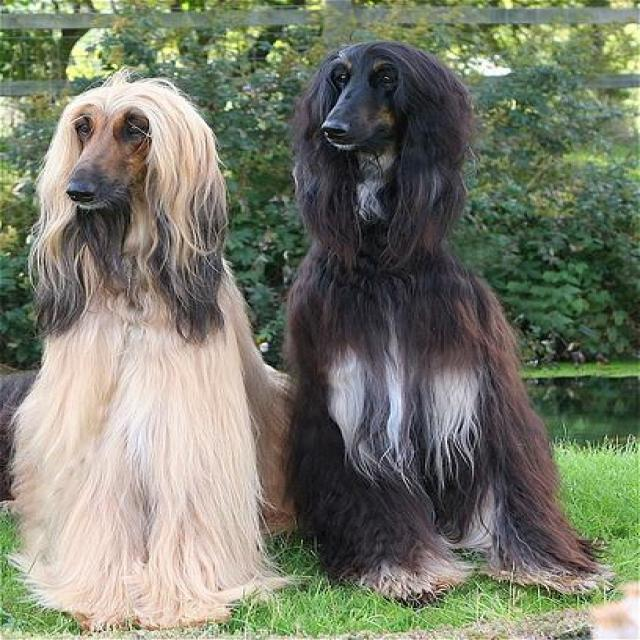afghan_hound: (276, 42, 628, 602), (8, 72, 292, 631)
